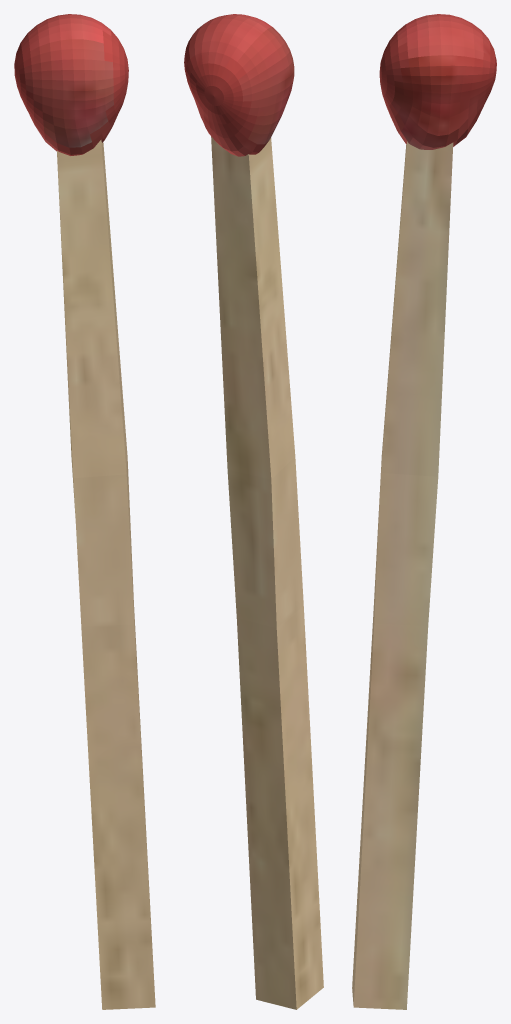
The model's file is fosforo.glb.
3 views of the same model, side by side, from view 1: azimuth 90°, elevation 25°; view 2: azimuth 150°, elevation 25°; view 3: azimuth 270°, elevation 25° (orthographic). The views are drawn at different scales.
Visible parts, largest first — view 1: Sphere; view 2: Sphere; view 3: Sphere.
Boxes of the visible parts, left/top/right/bottom form: Sphere: left=14, top=14, right=155, bottom=1009; Sphere: left=184, top=14, right=323, bottom=1009; Sphere: left=352, top=14, right=496, bottom=1009.
Size of the model in its own units: 0.0114 by 0.1182 by 0.0156.
1 material, 1 textured.
